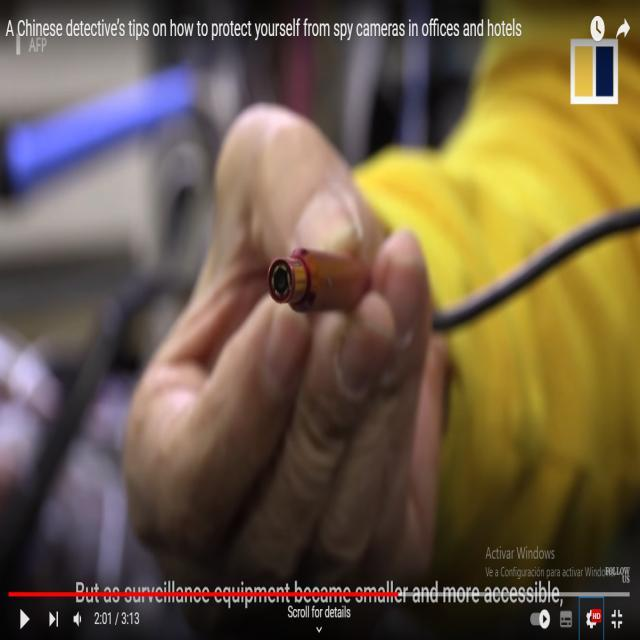hidden camera: (272, 267, 289, 294)
